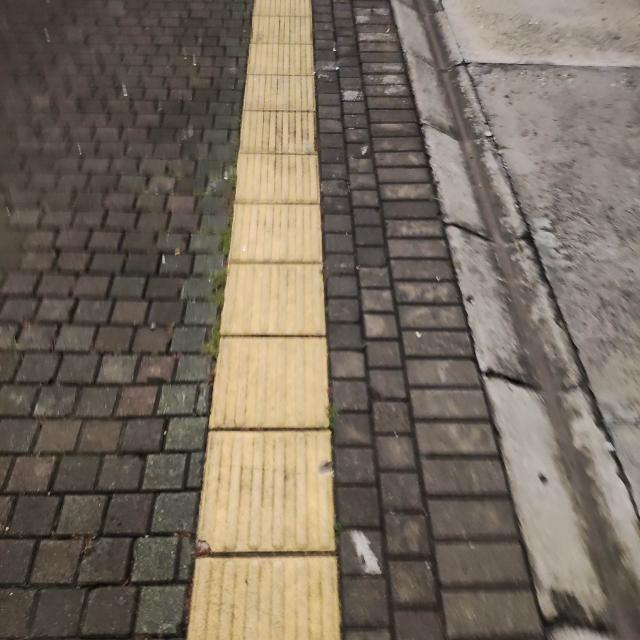lurus: (206, 0, 336, 640)
